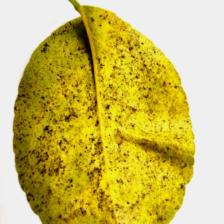canker: (41, 41, 158, 103)
